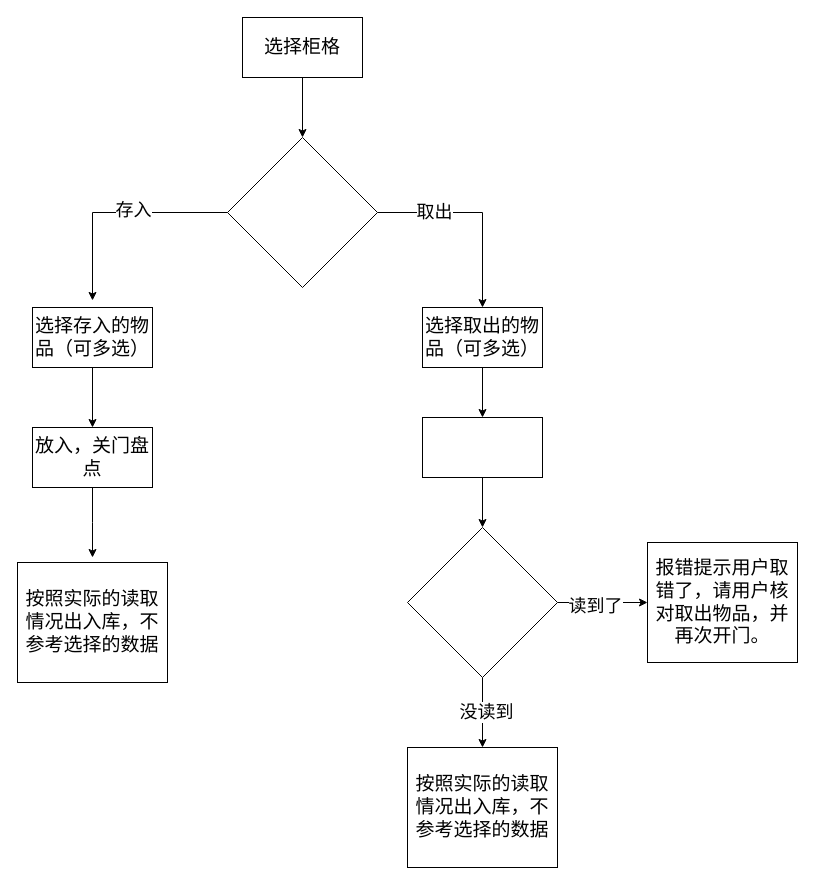
The diagram is 815 pixels wide and 885 high, and some of its shapes have lost their labels. The centre of each missing label's shape, as x and y in pixels:
判断读取: [482,602]
取出，关门盘点: [482,447]
选择存入还是取出: [302,212]
